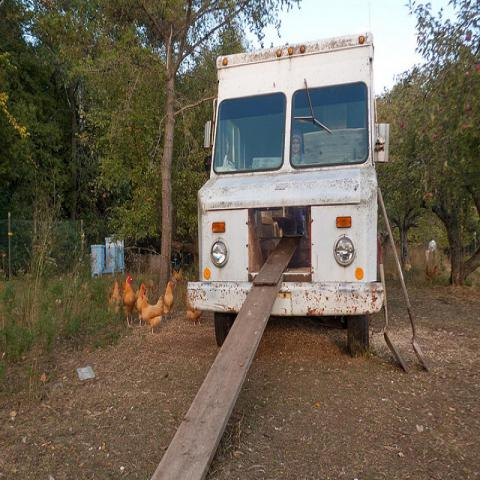truck: (187, 30, 390, 360)
